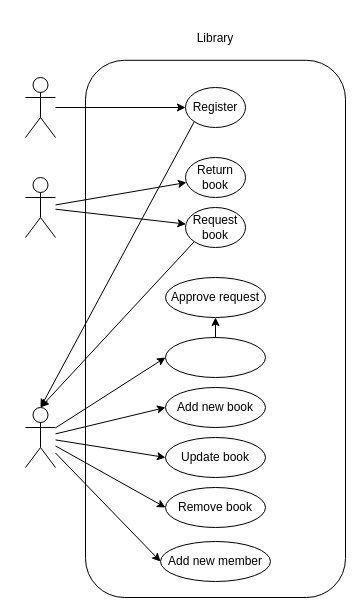
Image size: 363x615. Some labels were removed from this diagram. The shapes that lost their labels are listed below. From the top down, each one's centre as x and y in pixels, then its label:
At point 40,107: "Visitor".
At point 40,207: "Member".
At point 215,357: "Check book availability".
At point 40,437: "Librarian".
